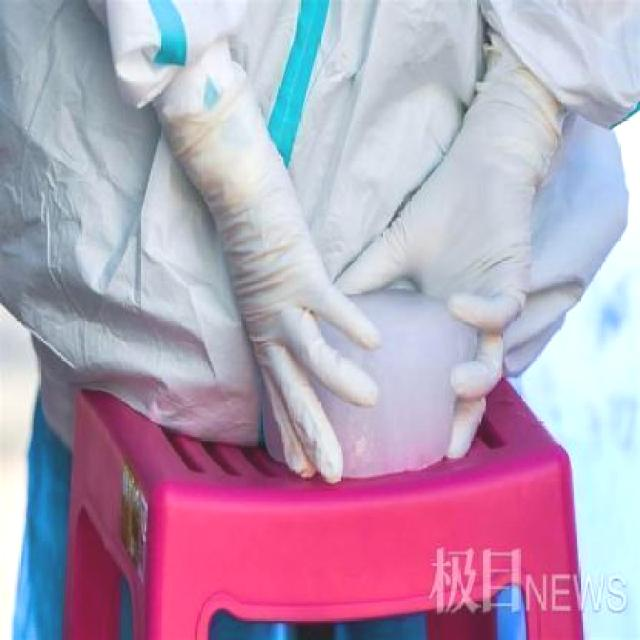hand_glove: (337, 122, 538, 464), (228, 200, 379, 478)
